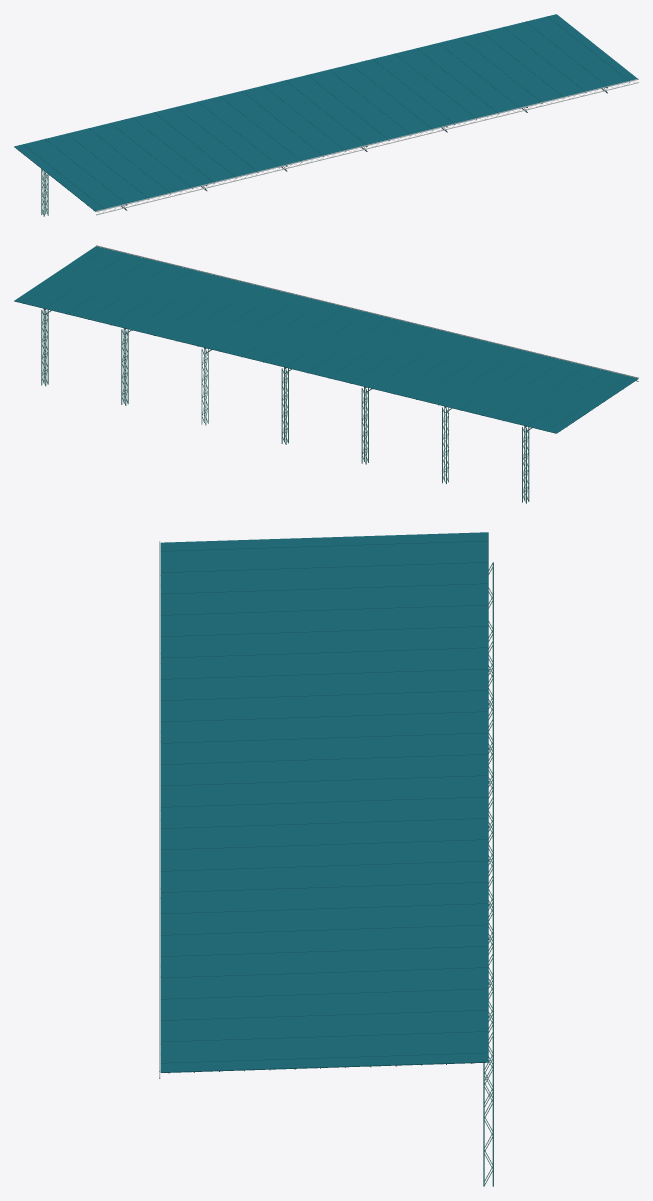
The model's file is stadium-roof.glb.
3 renders of one model, top to bottom at view 1: azimuth 30°, elevation 25°; view 2: azimuth 150°, elevation 25°; view 3: azimuth 270°, elevation 25°, orthographic. The views are drawn at different scales.
Visible parts, largest first — view 1: Roof panels, Roof edge, Roof supports; view 2: Roof panels, Roof supports, Roof edge; view 3: Roof panels, Roof supports, Roof edge.
Boxes of the visible parts, bbox=[...] form: Roof panels: bbox=[14, 14, 637, 211]; Roof edge: bbox=[96, 78, 638, 215]; Roof supports: bbox=[41, 21, 526, 216]; Roof panels: bbox=[14, 246, 638, 433]; Roof supports: bbox=[41, 309, 529, 503]; Roof edge: bbox=[96, 245, 638, 381]; Roof panels: bbox=[160, 532, 488, 1072]; Roof supports: bbox=[483, 562, 493, 1186]; Roof edge: bbox=[159, 541, 160, 1078].
Bounding box in the file's own units: 149 × 20.12 × 39.81.
